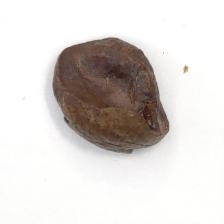NG: (77, 39, 164, 114), (123, 117, 170, 156)
